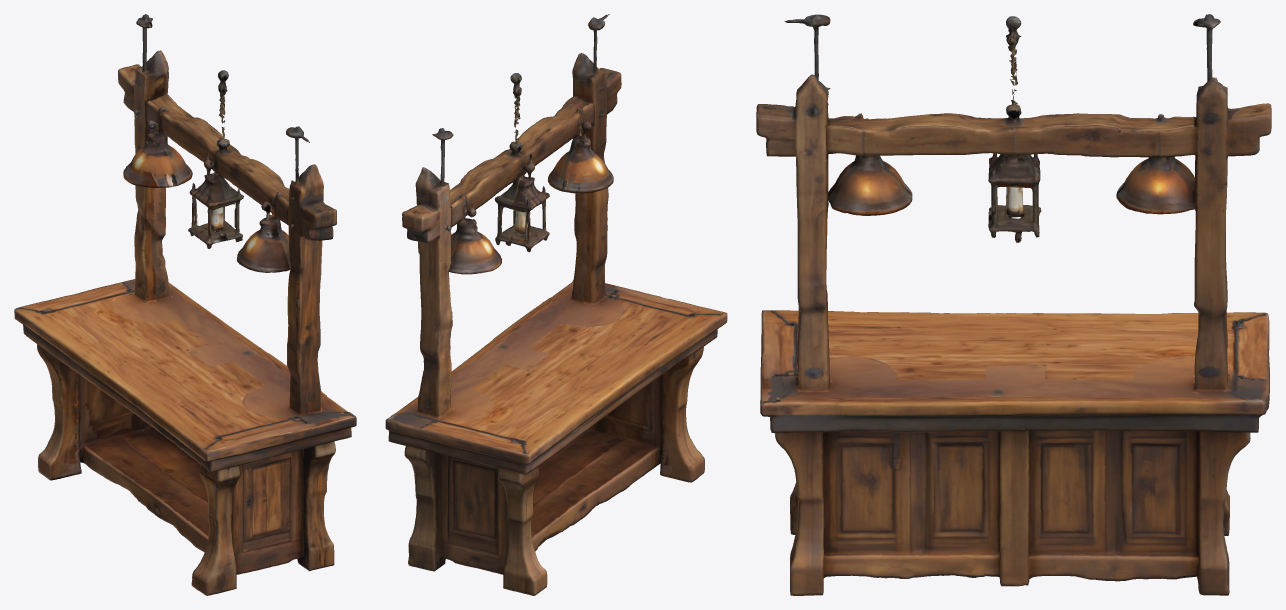
The model's file is lantern_bench.glb.
The picture shows the model from 3 angles, left to right: view 1: azimuth 30°, elevation 25°; view 2: azimuth 150°, elevation 25°; view 3: azimuth 270°, elevation 25°; orthographic projection. The views are drawn at different scales.
Size of the model in its own units: 0.7195 by 2 by 1.65.
Materials: 1 (1 with a texture image).
